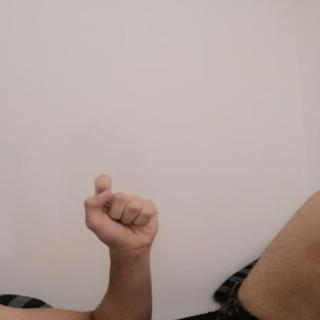FAA: (74, 166, 168, 256)
